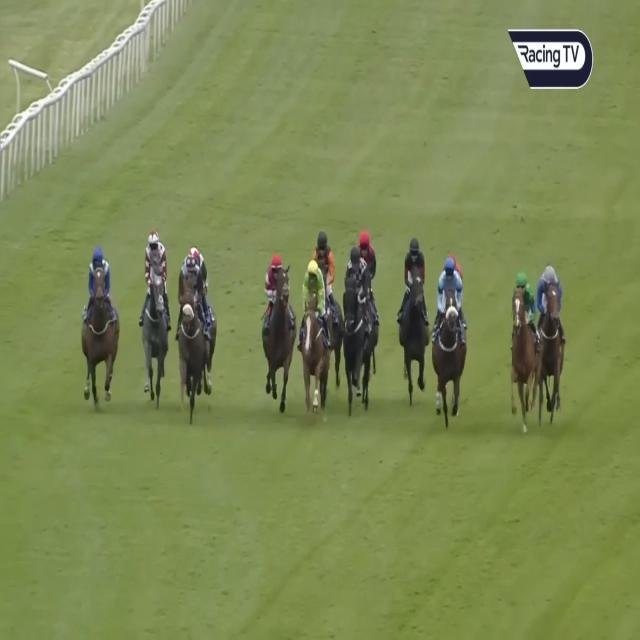horses-racing: (175, 252, 211, 415), (260, 254, 298, 407), (81, 243, 118, 393), (397, 229, 432, 387), (340, 247, 370, 411), (140, 230, 168, 404), (434, 253, 464, 412), (299, 261, 327, 417), (314, 230, 344, 369), (513, 264, 539, 422), (537, 265, 564, 407), (356, 233, 380, 286), (191, 244, 212, 300)
